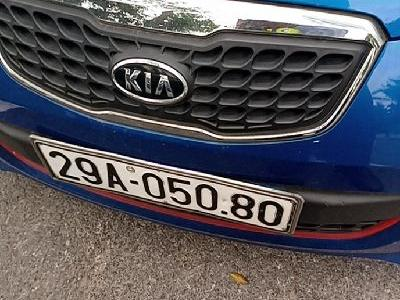lisence: (30, 135, 304, 237)
